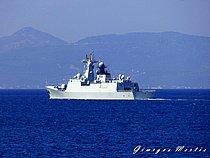MIL_Ship: (44, 49, 156, 100)
